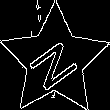N_NE: (24, 30, 86, 91)
